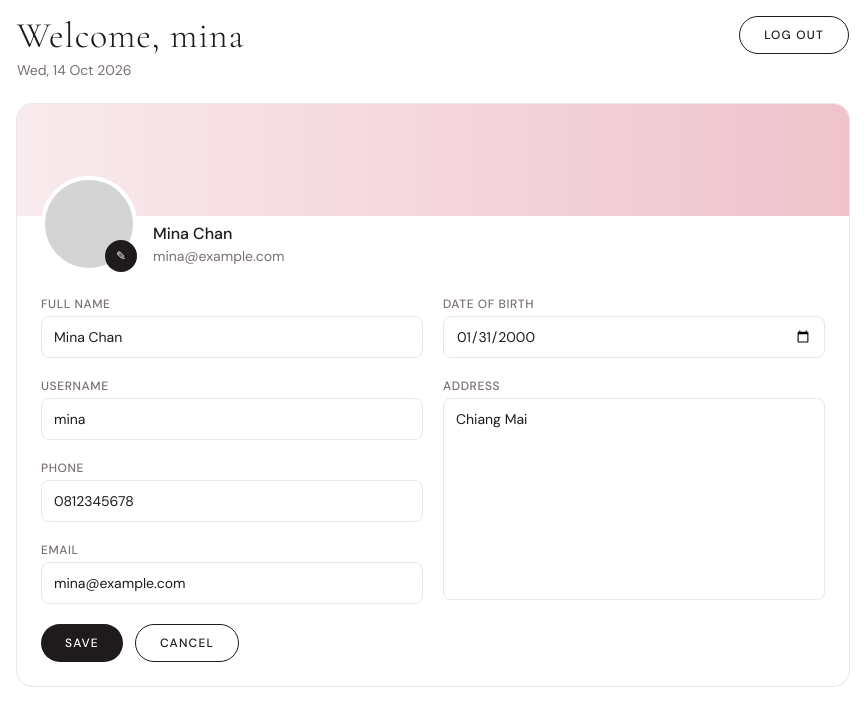
Test case: ProfileView › cancel restores the original values
The image size is (867, 704).
Replace the text in the field with id "fullName" with "Changed" at x=232, y=337, box [41,316,423,358]
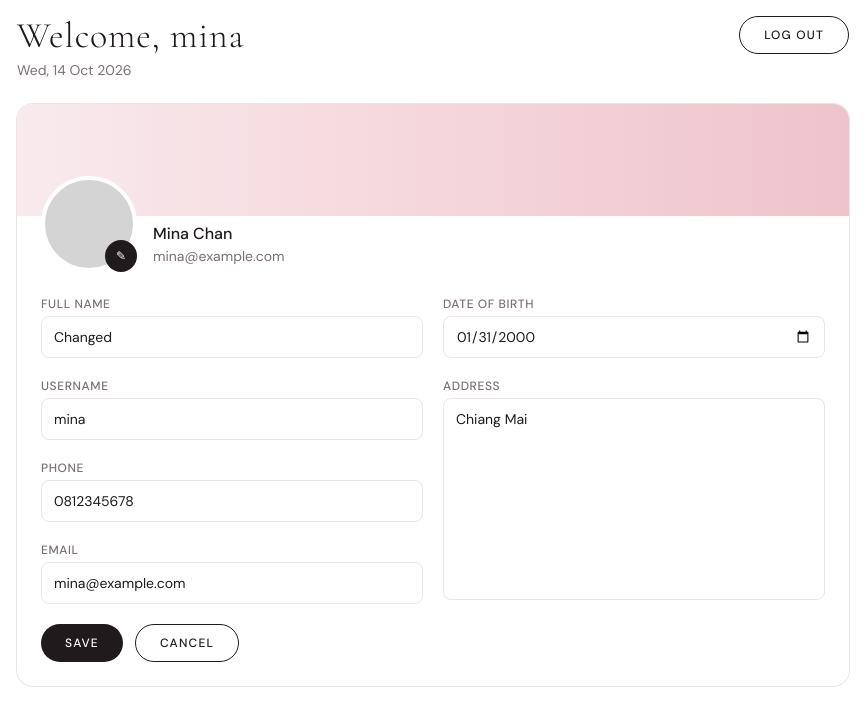
Click the button "Cancel" at x=187, y=643, box [135,624,239,662]
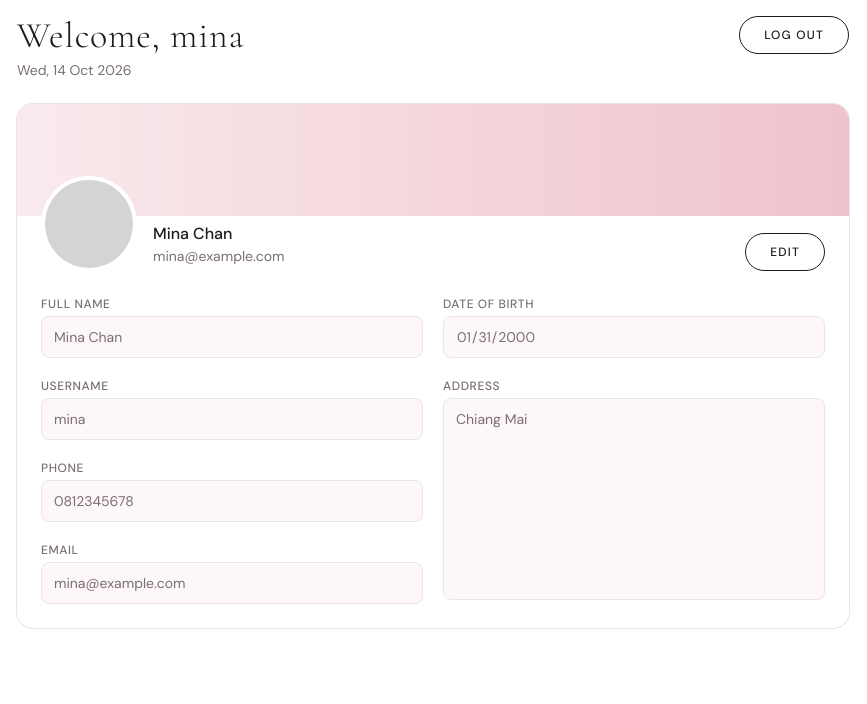
Expected: the field with id "fullName" holds "Mina Chan", [41,316,423,358]
